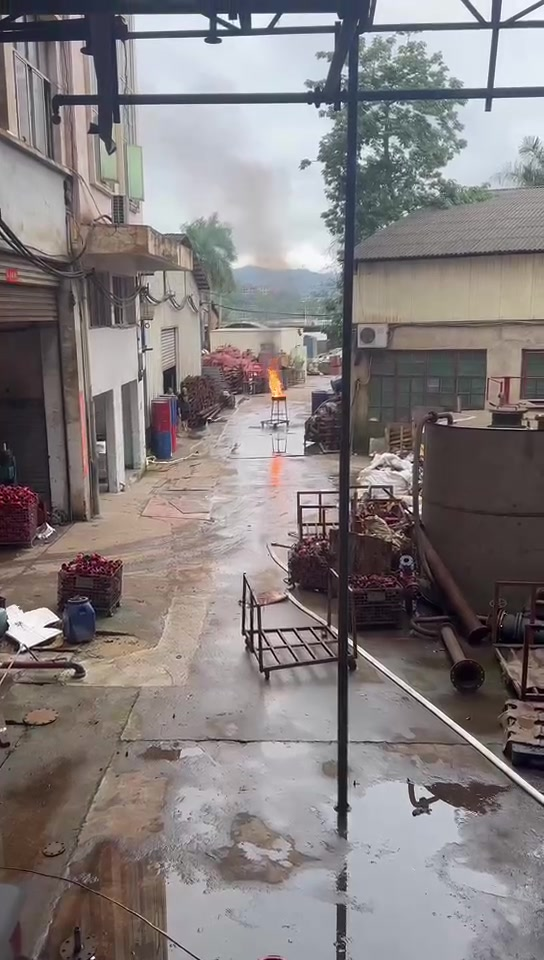fire: (268, 364, 286, 396)
